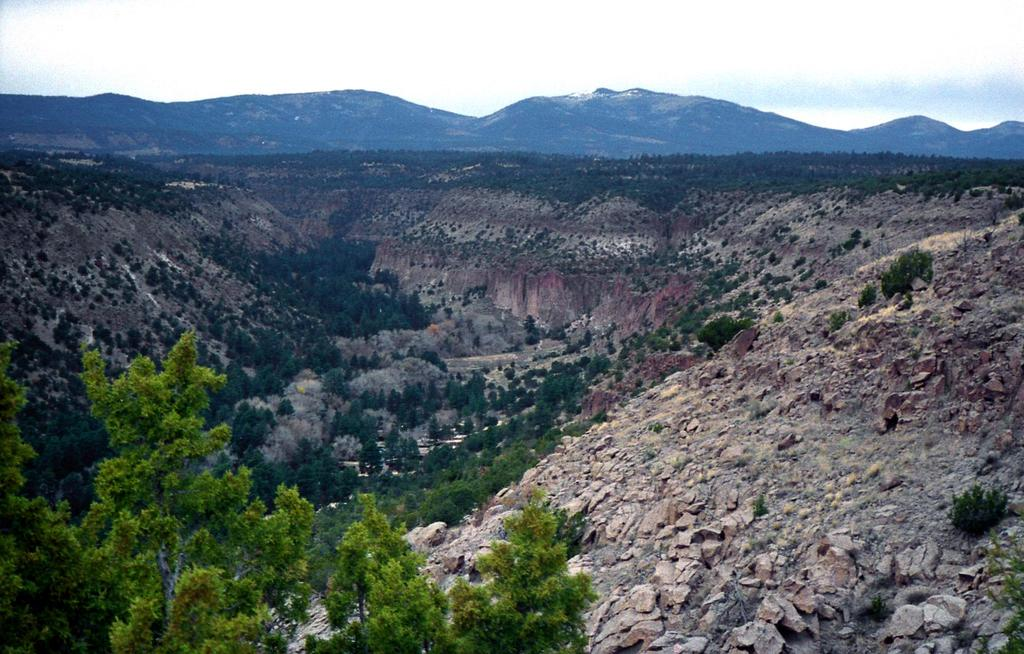Tree: (0, 149, 1023, 654)
